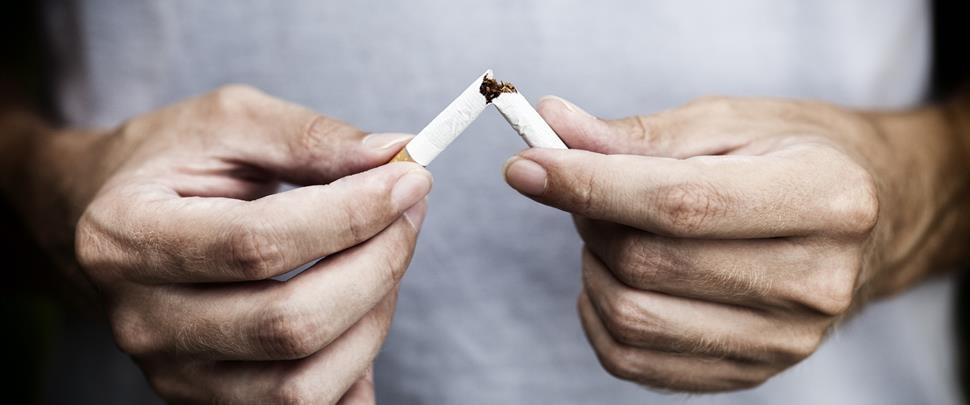sigaretta: (378, 79, 588, 176)
